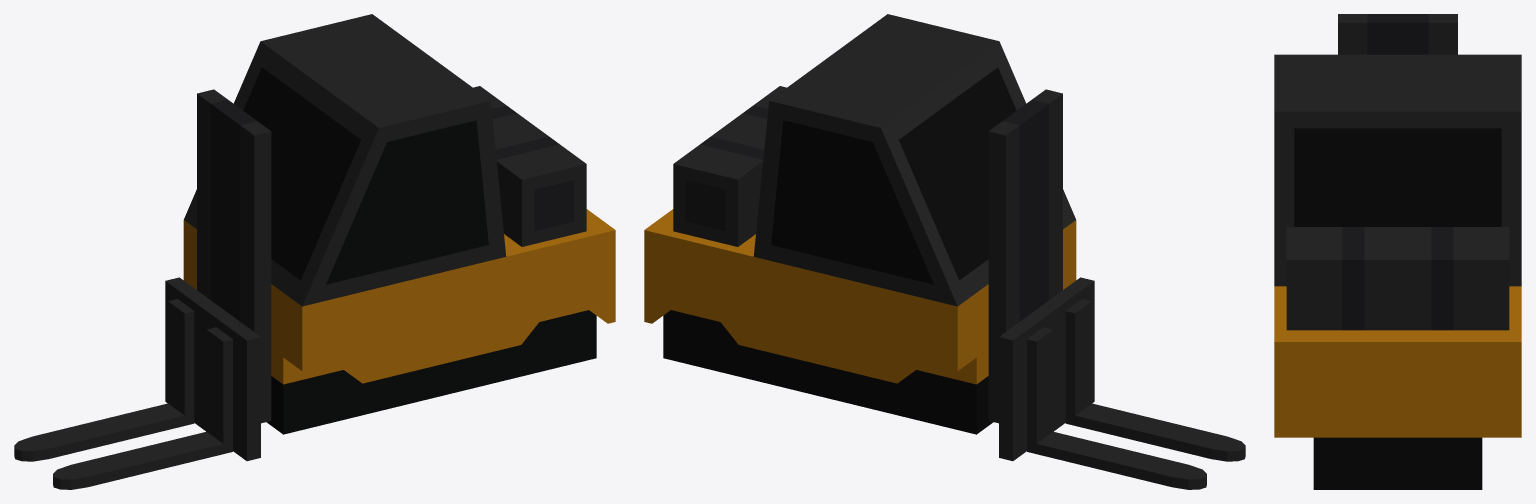
The model's file is forklift_chassis.dae.
The picture shows the model from 3 angles, left to right: view 1: azimuth 30°, elevation 25°; view 2: azimuth 150°, elevation 25°; view 3: azimuth 270°, elevation 25°; orthographic projection. The views are drawn at different scales.
Visible parts, largest first — view 1: forklift; view 2: forklift; view 3: forklift.
Boxes of the visible parts, x1=… form: forklift: x1=14, y1=14, x2=615, y2=489; forklift: x1=644, y1=14, x2=1245, y2=489; forklift: x1=1274, y1=14, x2=1521, y2=489.
Bounding box in the file's own units: 36.21 × 21.15 × 14.25.
